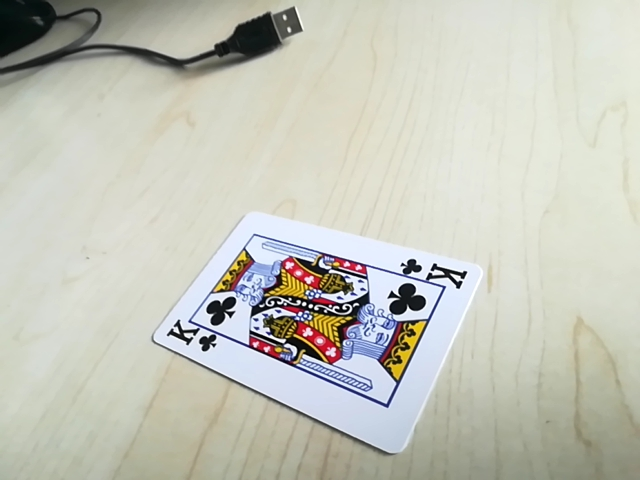mh k: (393, 257, 473, 287), (162, 323, 220, 353)
